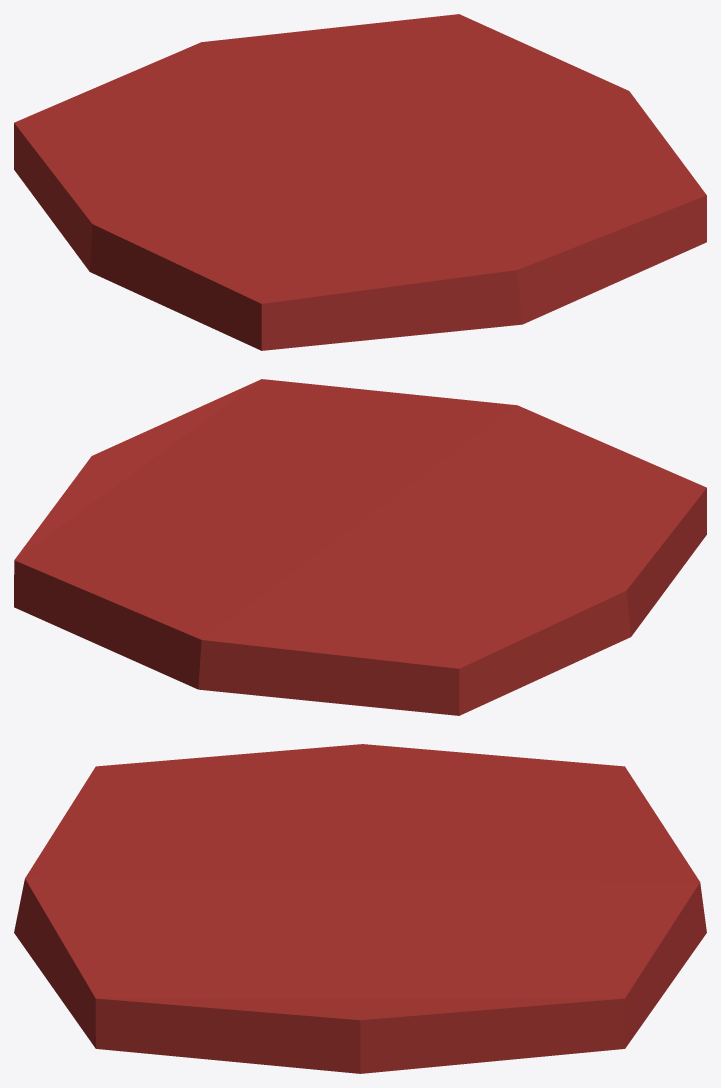
Rendered from tomatoSlice.fbx.
3 renders of one model, top to bottom at view 1: azimuth 30°, elevation 25°; view 2: azimuth 150°, elevation 25°; view 3: azimuth 270°, elevation 25°, orthographic. The views are drawn at different scales.
Parts seen in each view (by area): view 1: tomatoSlice; view 2: tomatoSlice; view 3: tomatoSlice.
Part boxes in pixels (x1,y1,x2,y2): tomatoSlice: (14, 14, 706, 350); tomatoSlice: (14, 379, 706, 715); tomatoSlice: (14, 744, 706, 1073).
Size of the model in its own units: 10.63 by 0.9537 by 11.02.
1 material, 1 textured.
